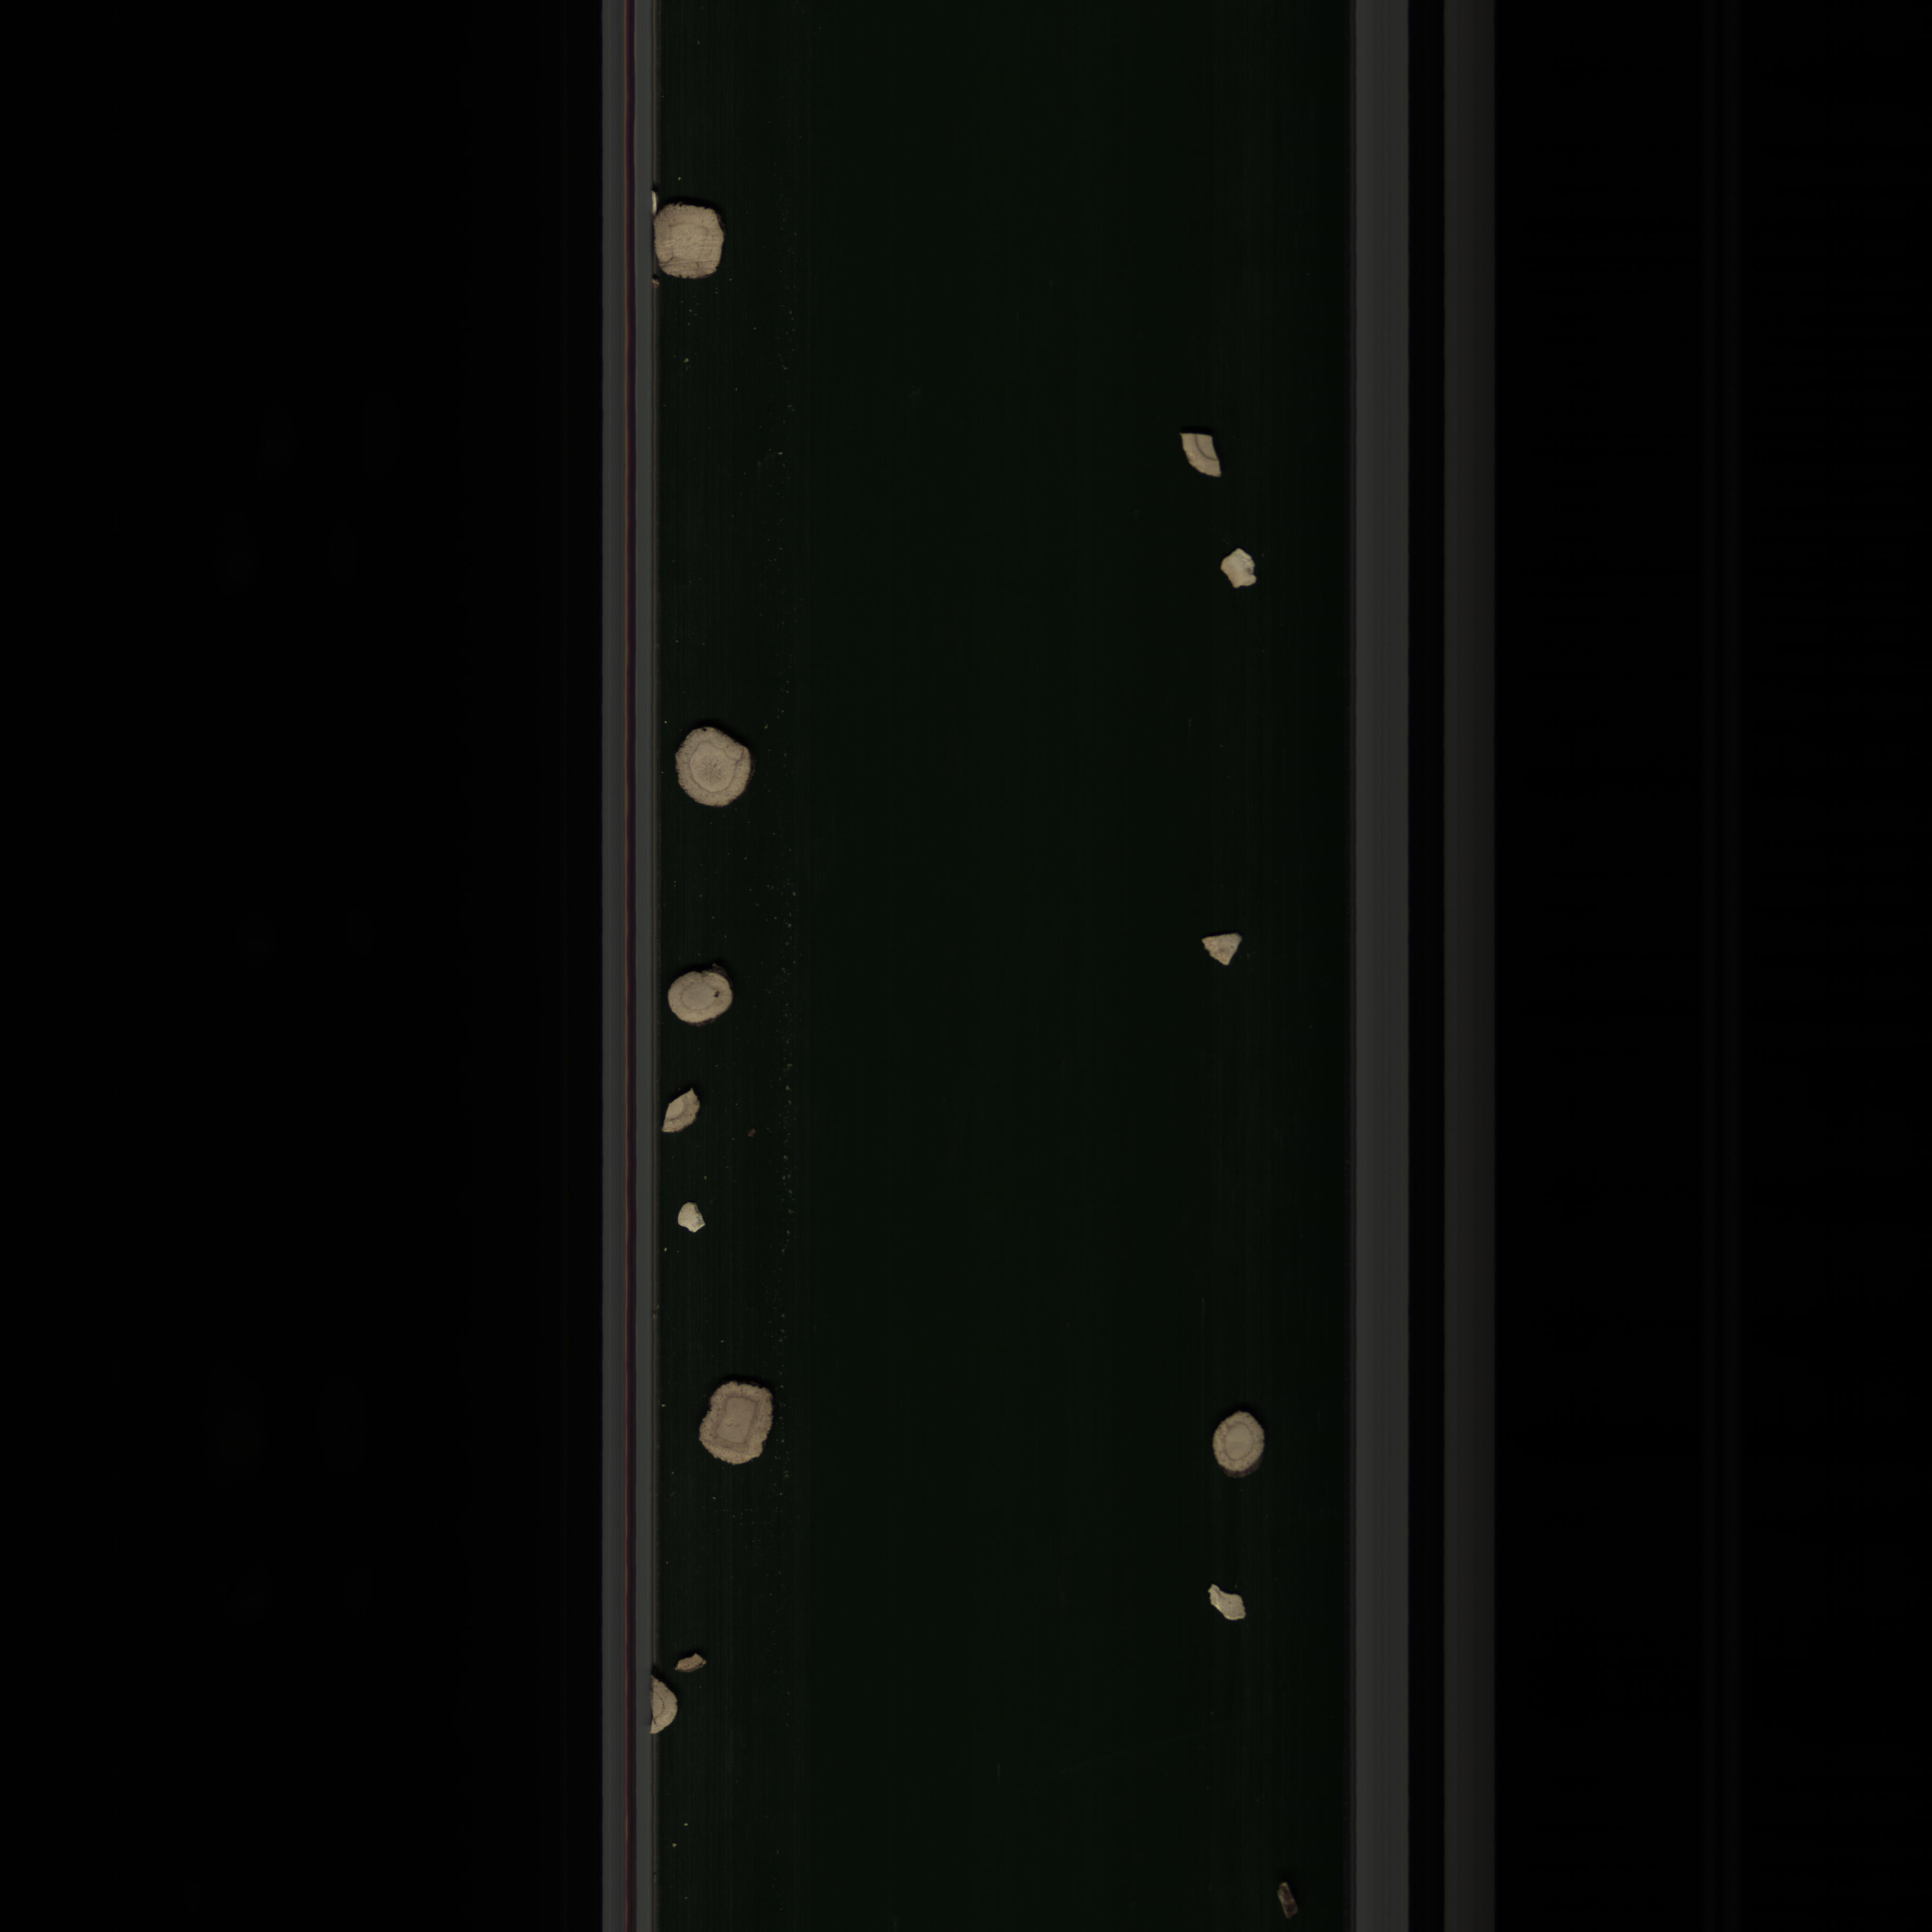debris: (644, 1660, 686, 1748), (1177, 425, 1237, 487), (1200, 1576, 1254, 1635), (658, 1085, 704, 1145), (1198, 927, 1256, 971), (1217, 541, 1261, 593), (669, 1198, 702, 1235)
